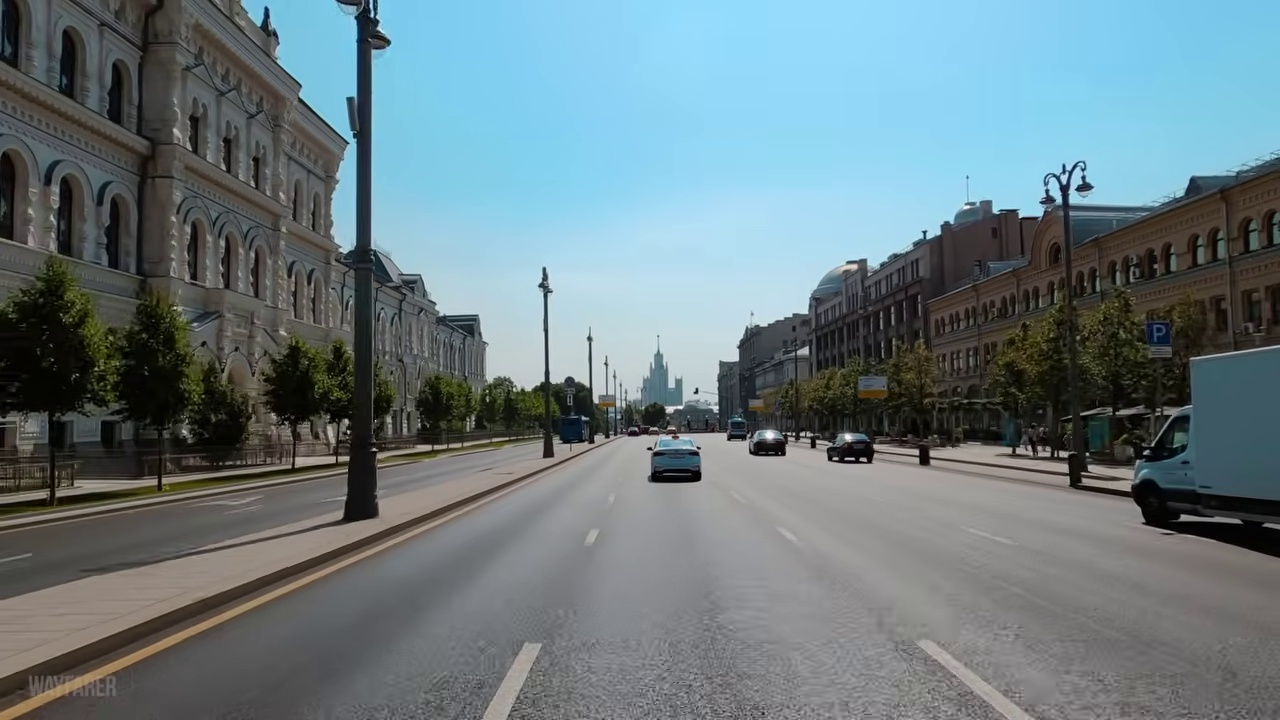apagada: (1042, 163, 1093, 211)
